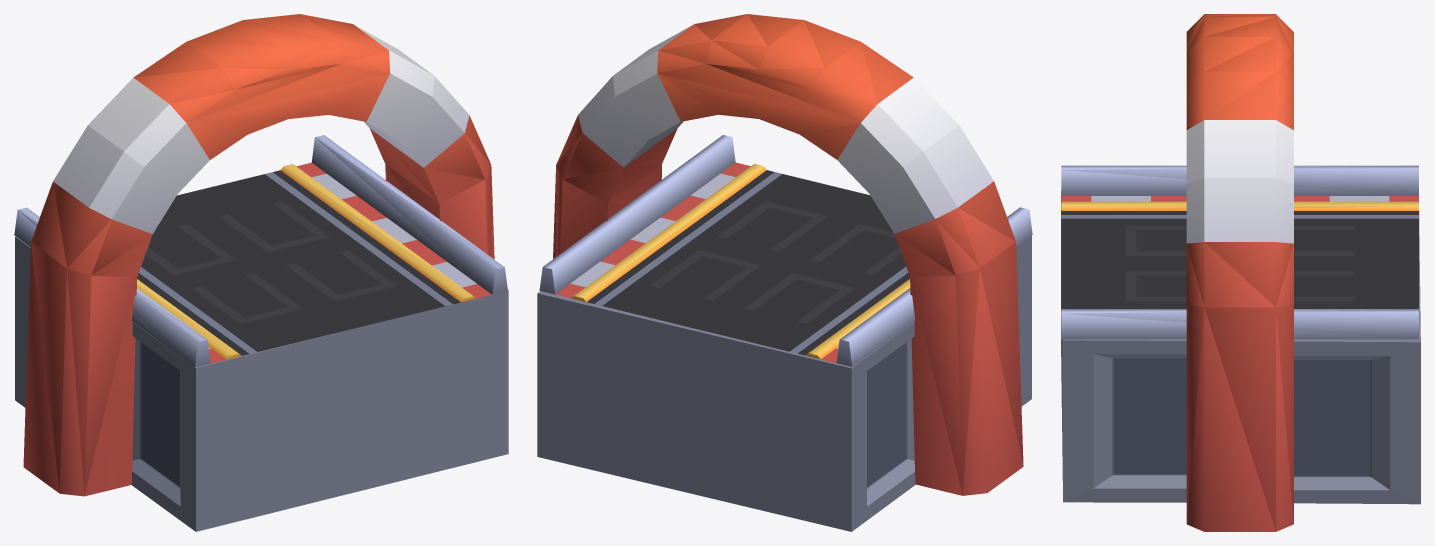
File: elev-track-checkpoint.glb
The picture shows the model from 3 angles, left to right: view 1: azimuth 30°, elevation 25°; view 2: azimuth 150°, elevation 25°; view 3: azimuth 270°, elevation 25°; orthographic projection.
Parts seen in each view (by area): view 1: track-finish.001; view 2: track-finish.001; view 3: track-finish.001.
Boxes of the visible parts, x1,y1,x2,y2 form: track-finish.001: (14,14,508,531); track-finish.001: (537,14,1032,531); track-finish.001: (1061,14,1420,531).
Bounding box in the file's own units: 14.03 × 12.08 × 10.06.
Materials: 2 (2 with a texture image).
